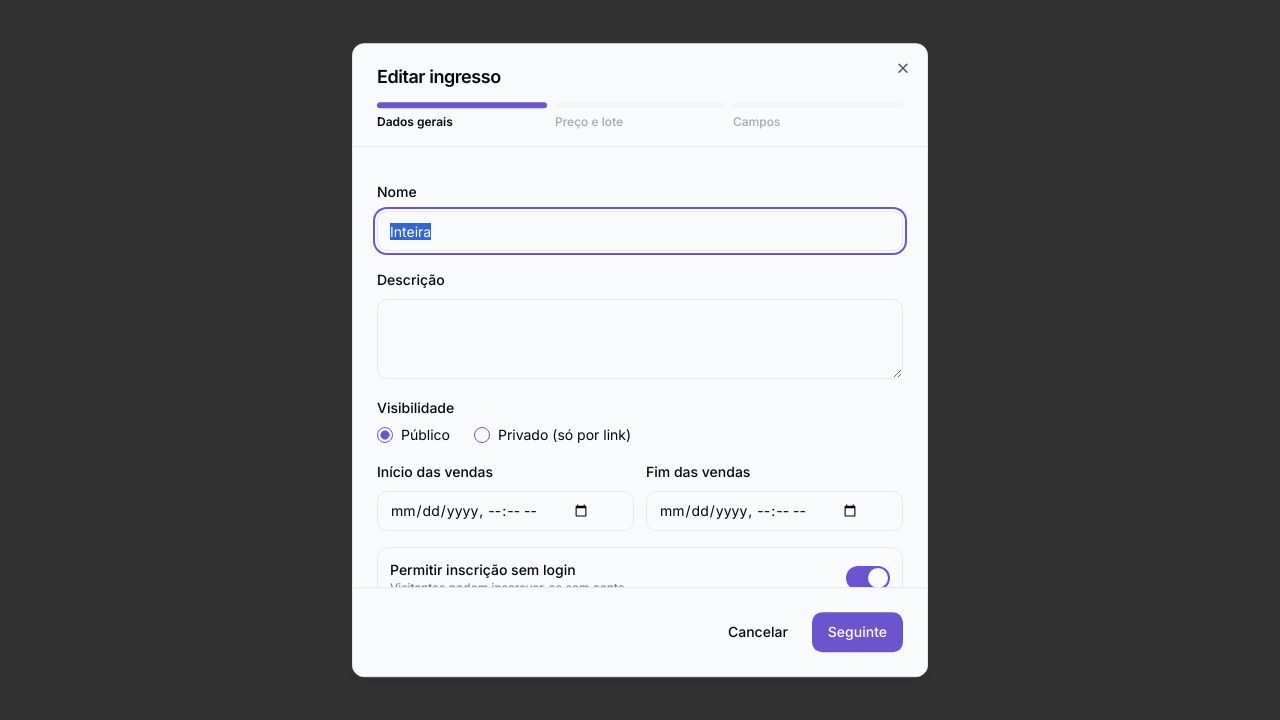
it: TicketTypeWizardDialog › passo 2 mostra a taxa ao lado do preço e esconde-a se o ingresso for gratuito, permitindo desfazer
Expected: the field labelled "Nome" holds "Inteira", [377,211,903,251]
Click the button "Seguinte".
click(857, 632)  # box [812,612,903,652]
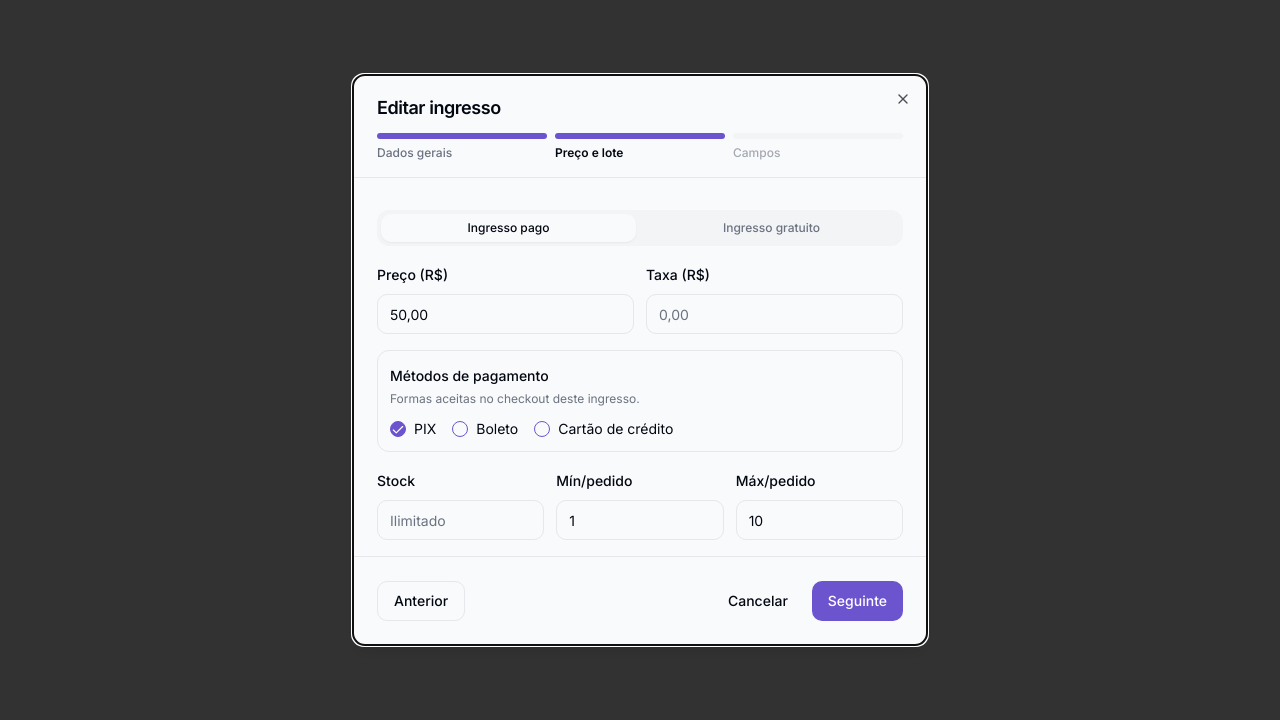
Now the field labelled "Taxa (R$)" is shown, box [646,294,903,334]
Click the button "Ingresso gratuito".
click(772, 228)  # box [644,214,899,242]
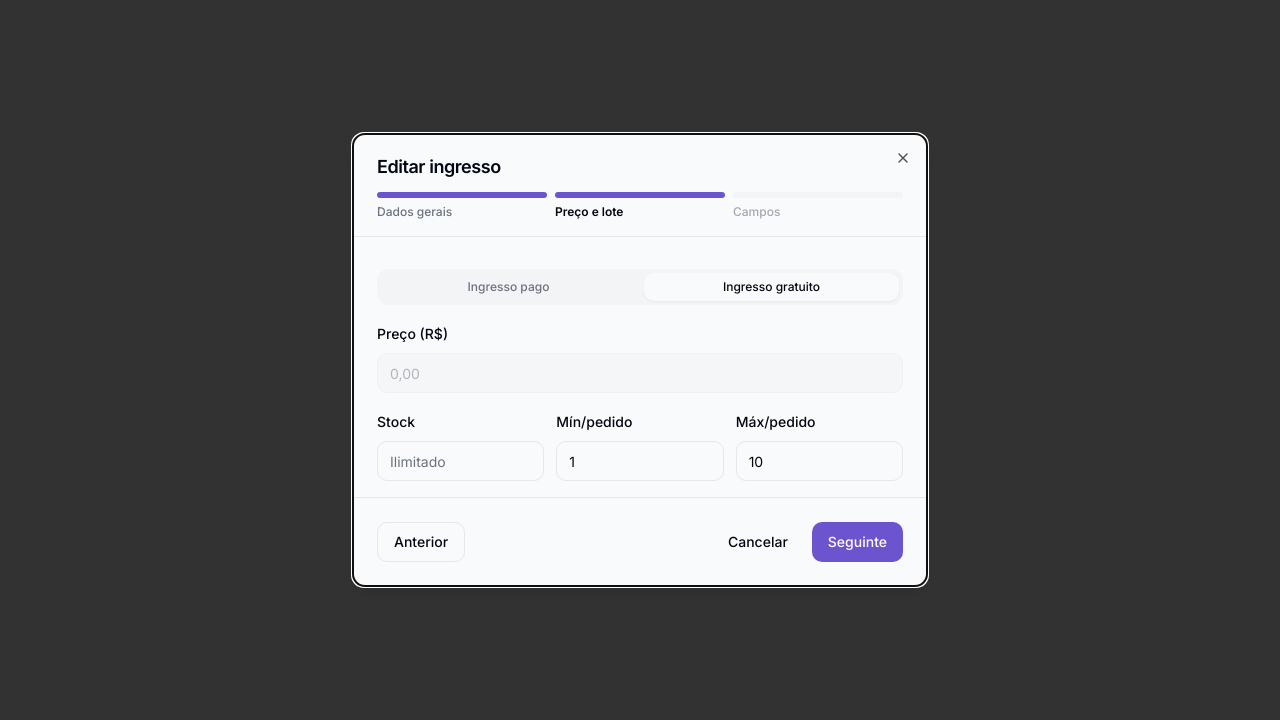
Now the label labelled "Taxa (R$)" is gone
Now the field labelled "Preço (R$)" holds "0,00", box [377,353,903,393]
Click the button "Ingresso pago".
click(508, 287)  # box [381,273,636,301]
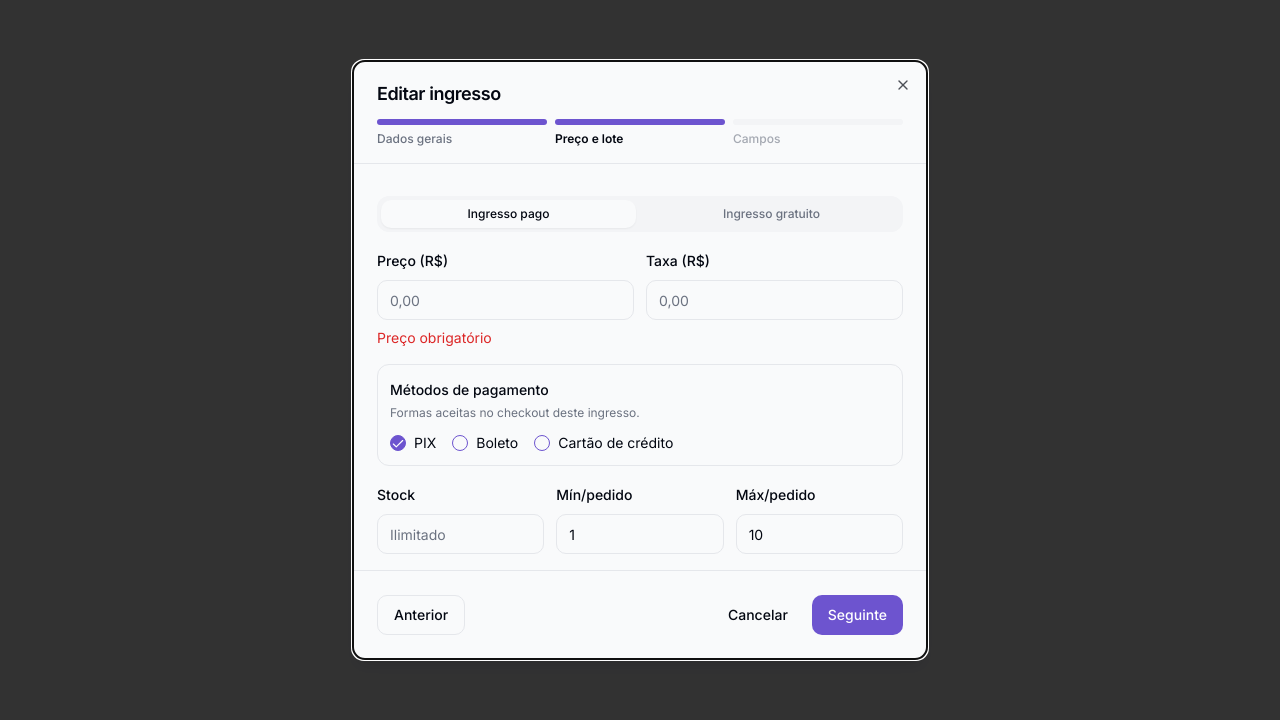
Now the field labelled "Taxa (R$)" is shown, box [646,280,903,320]
Now the field labelled "Preço (R$)" is enabled, box [377,280,634,320]
